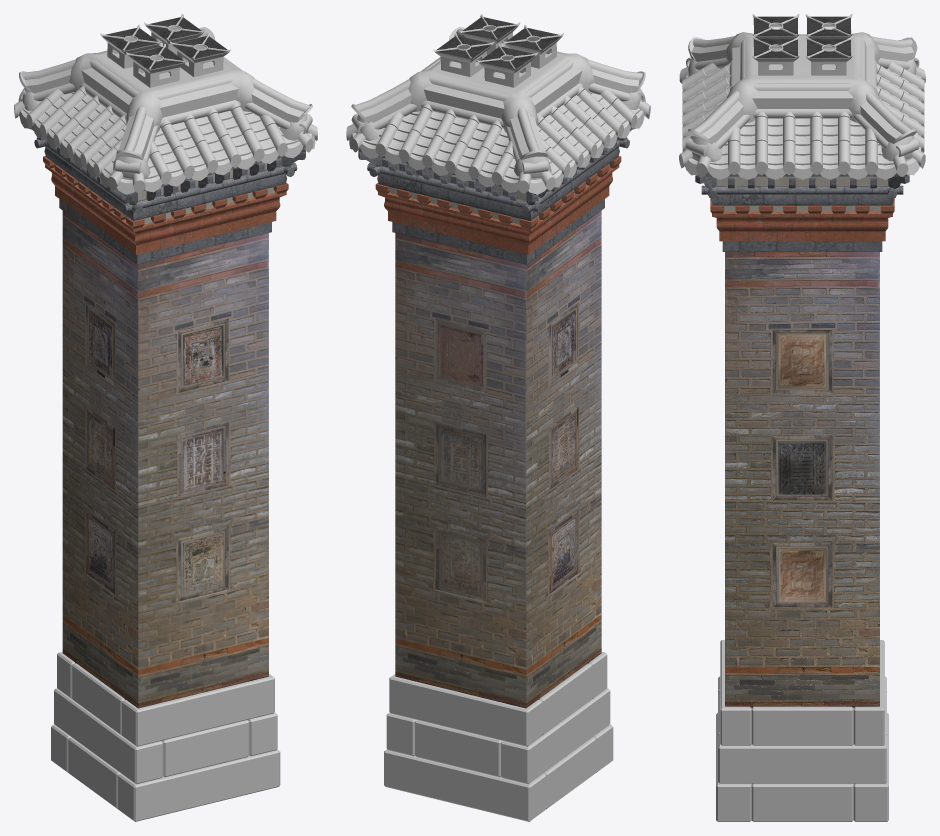
Rendered from SM_Chimney03B.fbx.
The picture shows the model from 3 angles, left to right: view 1: azimuth 30°, elevation 25°; view 2: azimuth 150°, elevation 25°; view 3: azimuth 270°, elevation 25°; orthographic projection. The views are drawn at different scales.
Parts seen in each view (by area): view 1: SM_Chimney03B; view 2: SM_Chimney03B; view 3: SM_Chimney03B.
Part boxes in pixels (<box>): SM_Chimney03B: <box>14,14,317,821</box>; SM_Chimney03B: <box>346,14,650,821</box>; SM_Chimney03B: <box>679,14,925,821</box>.
Bounding box in the file's own units: 191 × 192 × 644.
